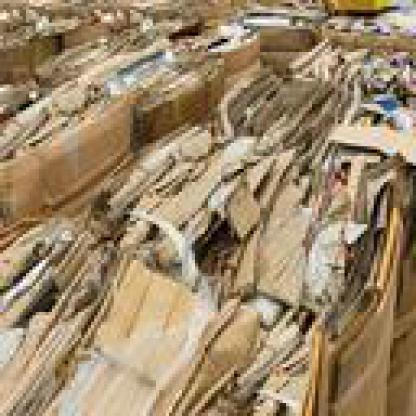CARDBOARD: (0, 0, 413, 413), (302, 166, 413, 412), (84, 117, 266, 263), (46, 250, 204, 413), (0, 74, 133, 244), (0, 214, 111, 413), (32, 36, 218, 146), (202, 143, 309, 293), (280, 78, 413, 182), (192, 299, 299, 413), (117, 23, 257, 107), (224, 169, 302, 299), (208, 62, 325, 140), (286, 36, 413, 100), (0, 0, 231, 26), (234, 0, 315, 68), (315, 10, 413, 55), (325, 117, 413, 163), (0, 26, 59, 72), (58, 20, 113, 48)
